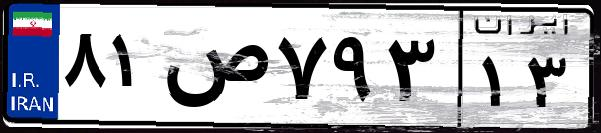1: (475, 38, 525, 113), (110, 28, 158, 98)
3: (385, 28, 445, 110), (525, 38, 570, 115)
7: (270, 28, 330, 110)
8: (57, 26, 110, 100)
9: (330, 28, 385, 110)
ص: (158, 20, 270, 120)
